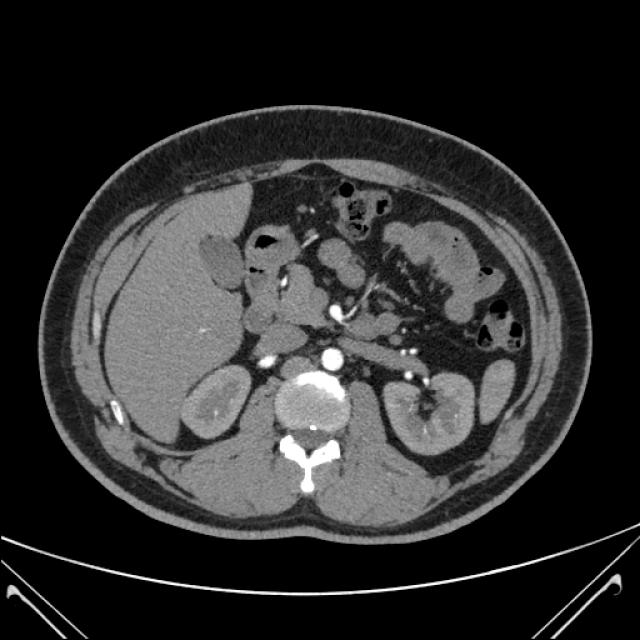Kidney: (55, 46, 561, 543)
